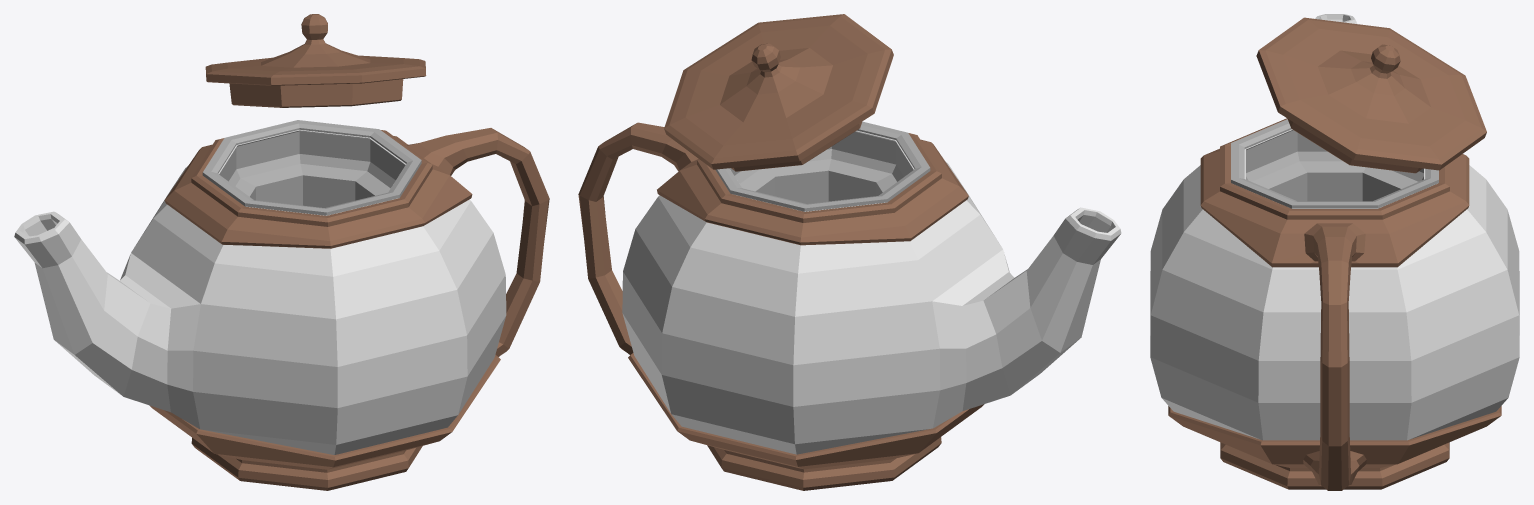
The model's file is teaInfuser.fbx.
3 renders of one model, left to right at view 1: azimuth 30°, elevation 25°; view 2: azimuth 150°, elevation 25°; view 3: azimuth 270°, elevation 25°, orthographic. The views are drawn at different scales.
Parts seen in each view (by area): view 1: teapotBody, teapotHandle, teapotInfuser, teapotLid; view 2: teapotBody, teapotHandle, teapotLid, teapotInfuser; view 3: teapotBody, teapotHandle, teapotLid, teapotInfuser.
Part boxes in pixels (x1,y1,x2,y2): teapotBody: (14, 130, 506, 454); teapotHandle: (149, 128, 549, 490); teapotInfuser: (202, 120, 421, 215); teapotLid: (205, 14, 426, 107); teapotBody: (622, 130, 1121, 454); teapotHandle: (578, 122, 984, 490); teapotLid: (664, 14, 893, 171); teapotInfuser: (715, 121, 930, 211); teapotBody: (1150, 14, 1519, 440); teapotHandle: (1168, 118, 1501, 490); teapotLid: (1256, 17, 1486, 173); teapotInfuser: (1231, 119, 1438, 208).
Size of the model in its own units: 7.4 by 5.39 by 4.4.
